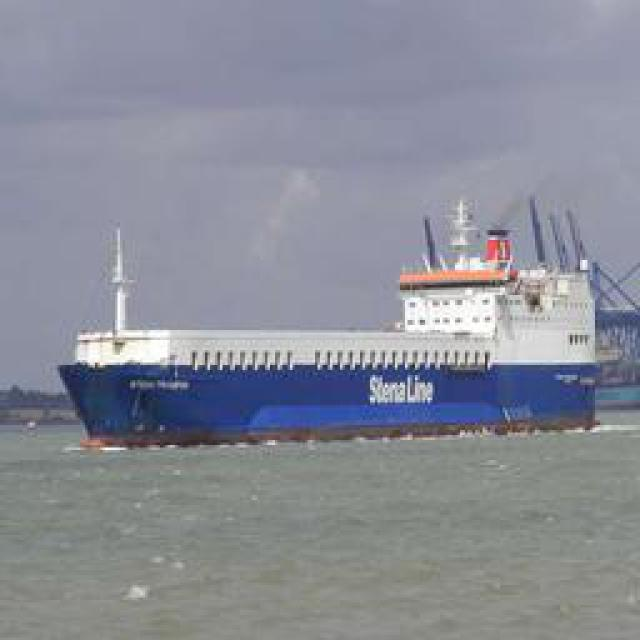Ship: (51, 202, 586, 442)
